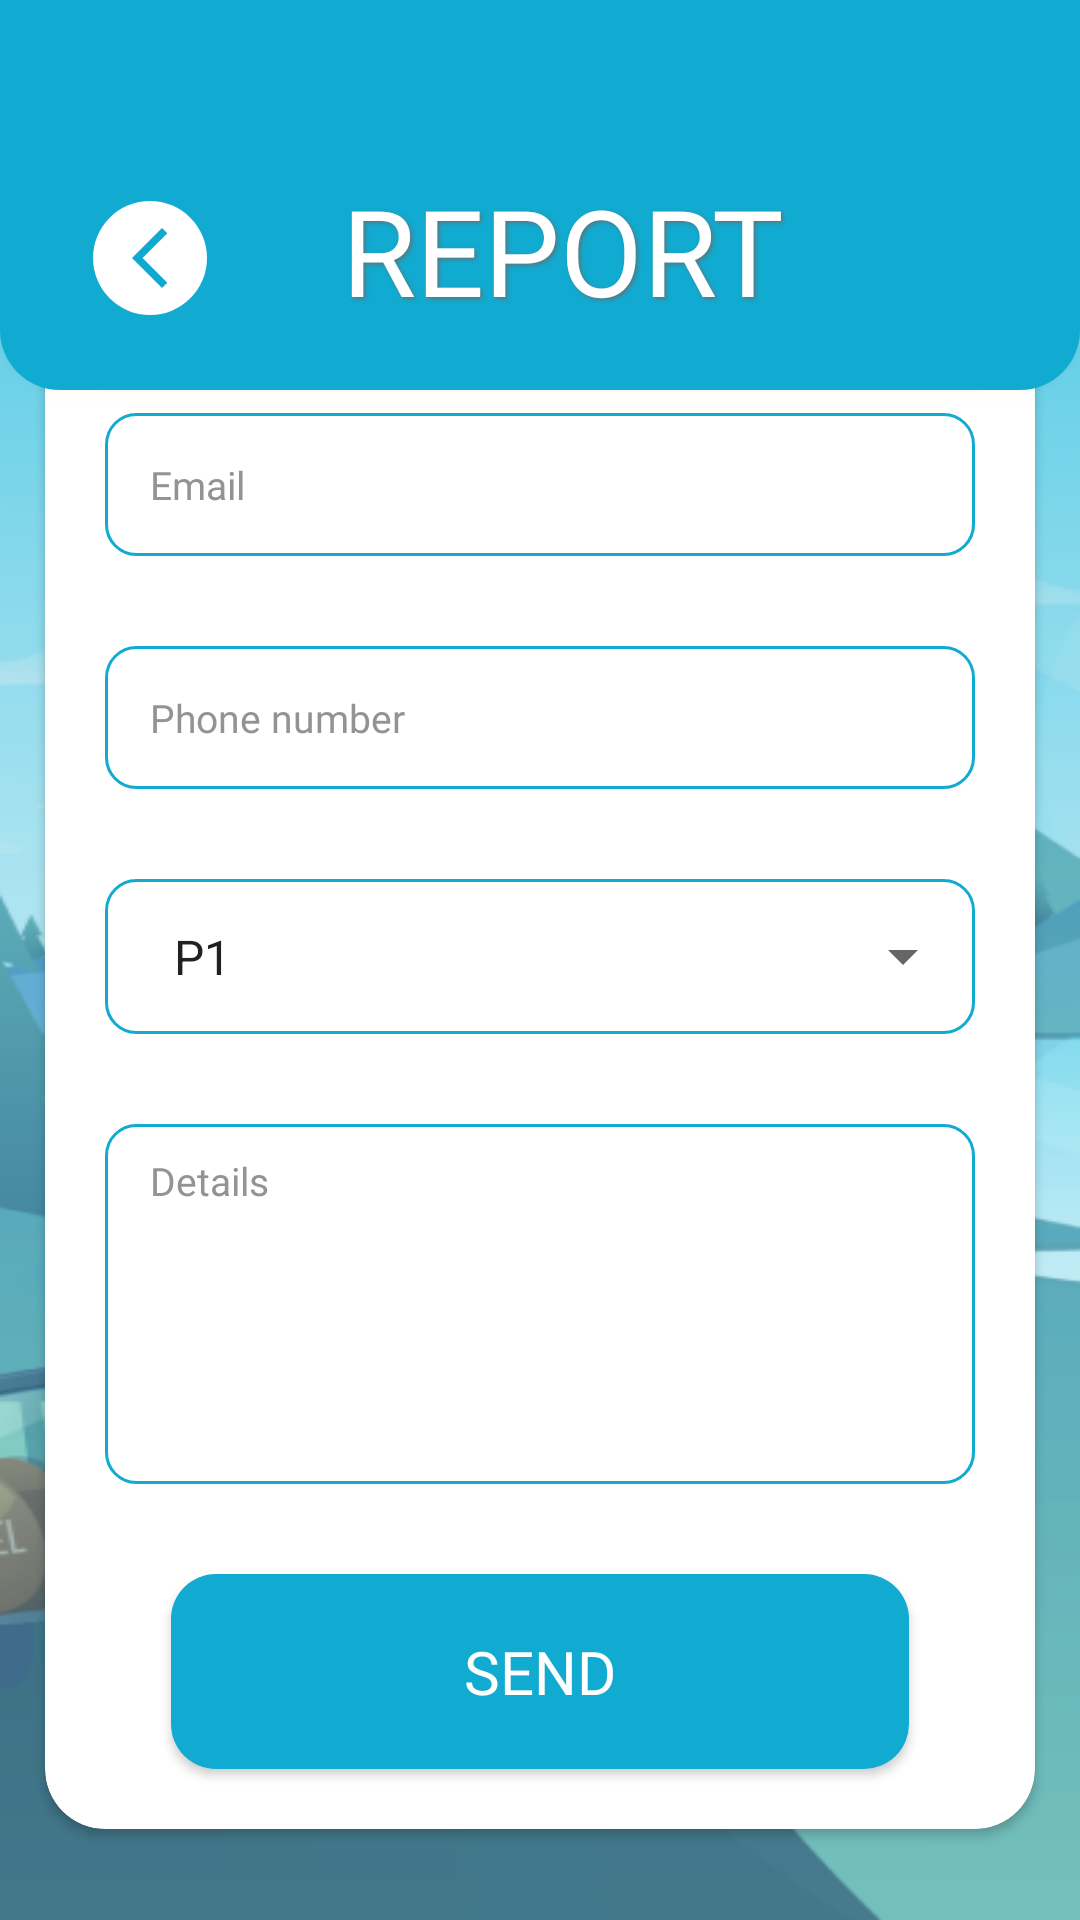

Where to tap for icons on this 1080 × 1920 app screen, as point (x, y):
arrow back: point (150, 258)
